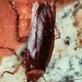cockroach: (24, 2, 55, 82)
